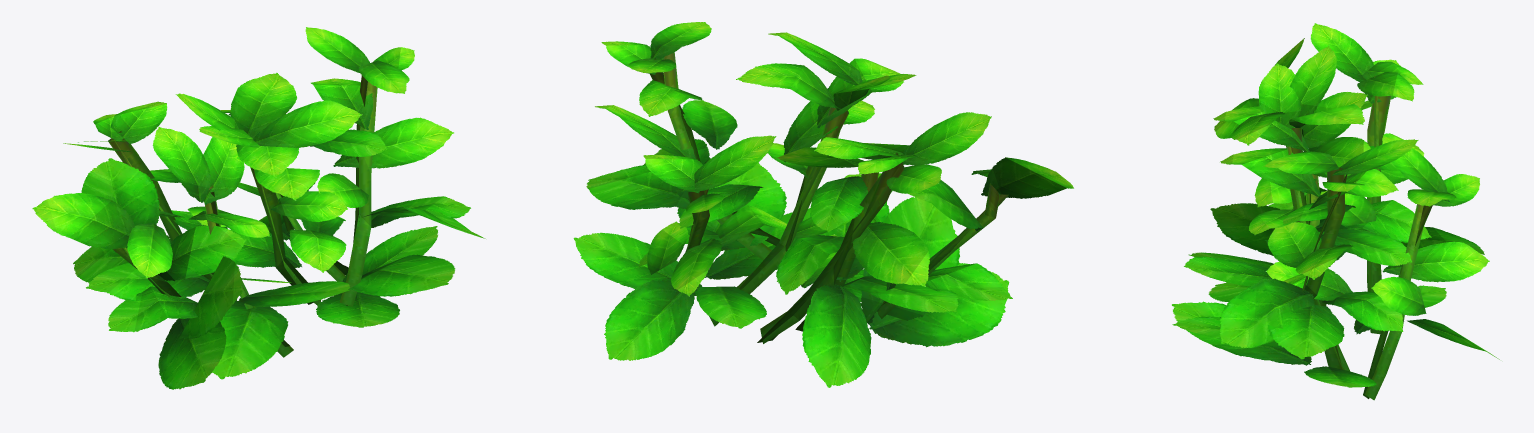
The model's file is shatan_cao04.fbx.
The picture shows the model from 3 angles, left to right: view 1: azimuth 30°, elevation 25°; view 2: azimuth 150°, elevation 25°; view 3: azimuth 270°, elevation 25°; orthographic projection. The views are drawn at different scales.
Parts seen in each view (by area): view 1: shatan_cao04; view 2: shatan_cao04; view 3: shatan_cao04.
Boxes of the visible parts, <box> form: shatan_cao04: <box>32,27,485,389</box>; shatan_cao04: <box>573,22,1073,387</box>; shatan_cao04: <box>1172,23,1499,400</box>.
Size of the model in its own units: 1.45 by 0.848 by 1.01.
